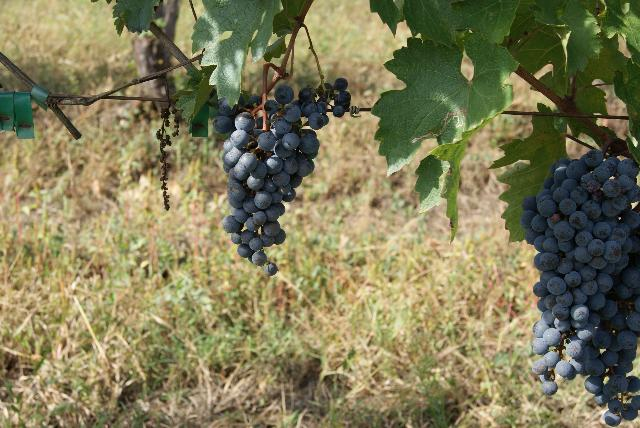grapes: (520, 150, 638, 395), (212, 85, 319, 275), (298, 78, 351, 129)
